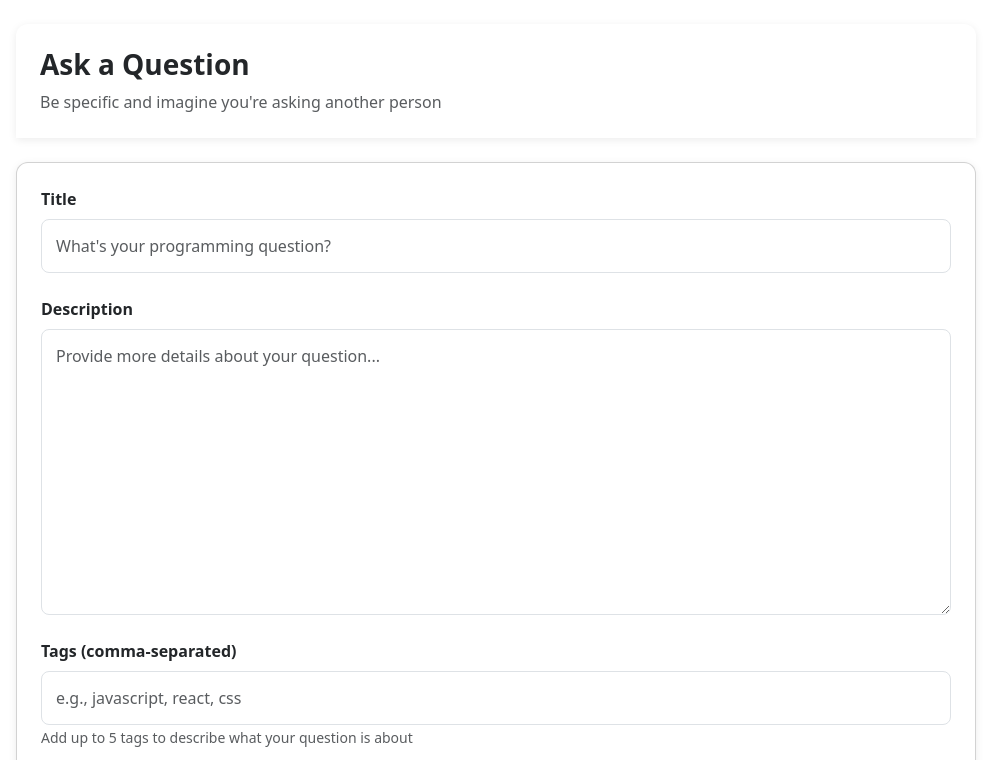
Test: Question Quality Improver › accepting replaces the field and removes only that suggestion
The width and height of the screenshot is (993, 760).
In the field labelled "Title": (496, 246) left=41, top=219, right=951, bottom=273, type "react not working"
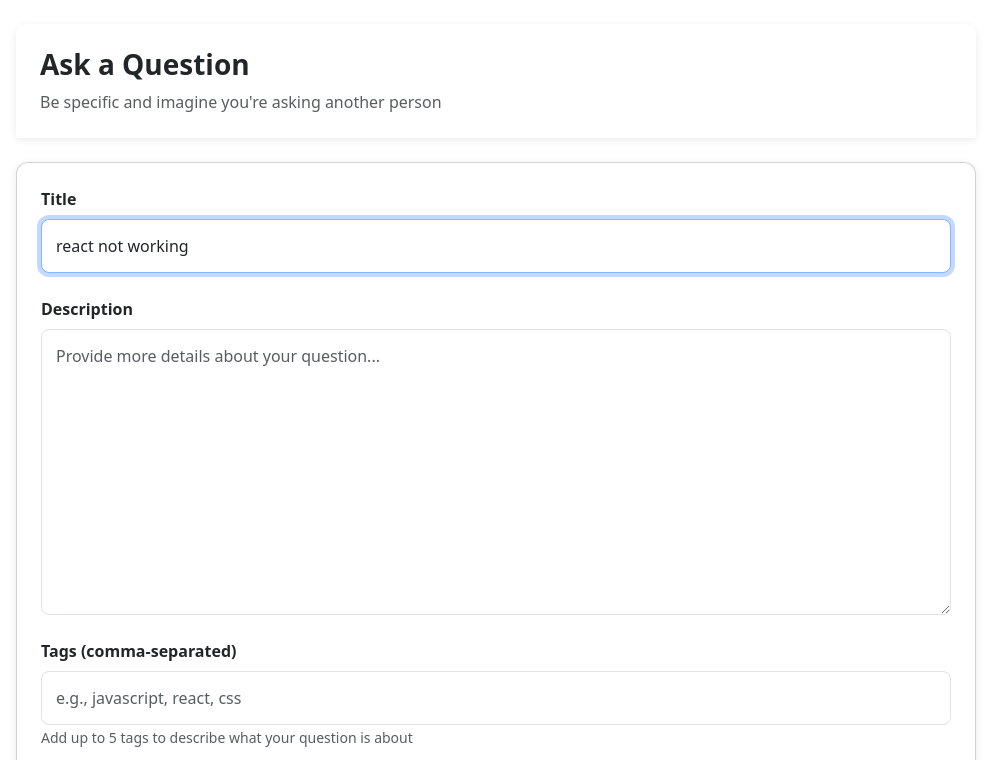
In the text box labelled "Description": (496, 472) left=41, top=329, right=951, bottom=614, type "useEffect runs twice"
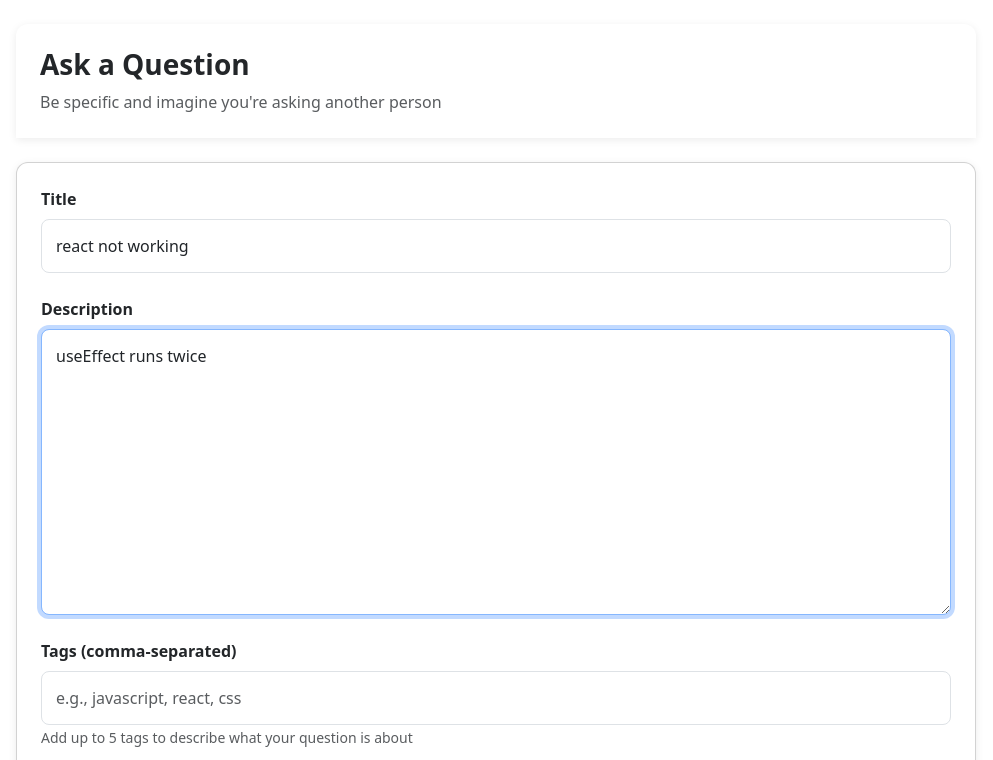
In the field labelled "Tags (comma-separated)": (496, 698) left=41, top=670, right=951, bottom=724, type "react"
(page scrolled)
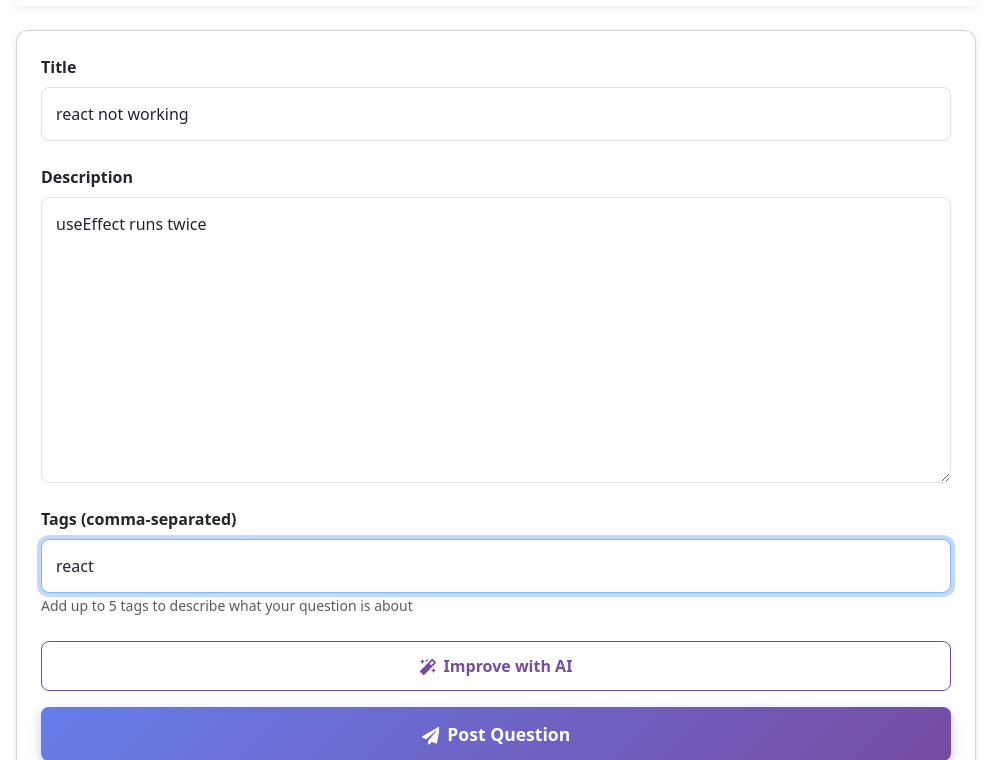
Click the button "Improve with AI": (496, 666) left=41, top=640, right=951, bottom=690
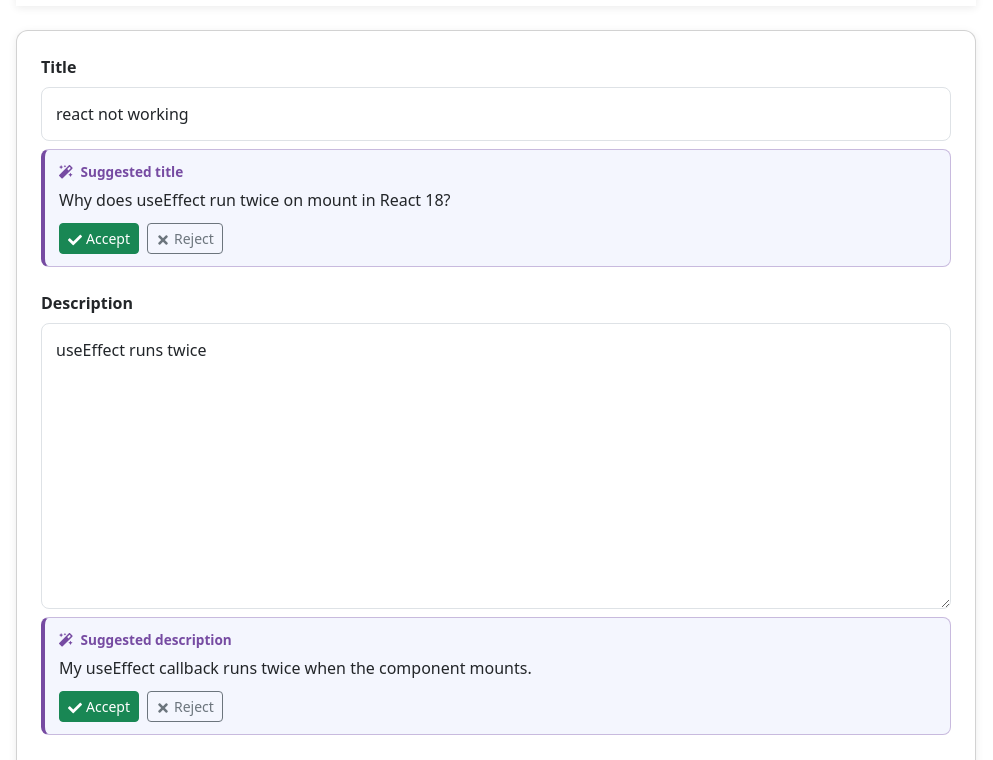
Expected: the element with test id "ai-suggestion-title" is shown, left=41, top=149, right=951, bottom=267
Click the button with aria-label "accept suggested title": (99, 238) left=59, top=223, right=139, bottom=254
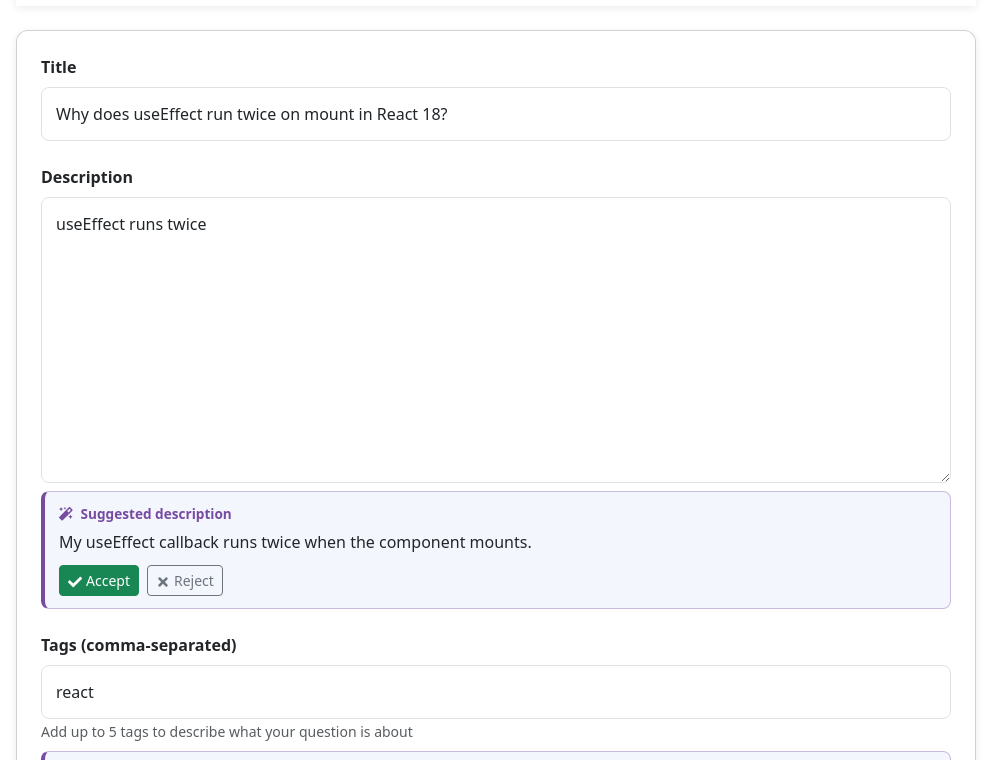
Expected: the element with test id "ai-suggestion-description" is shown, left=41, top=490, right=951, bottom=609
Expected: the field labelled "Title" holds "Why does useEffect run twice on mount in React 18?", left=41, top=87, right=951, bottom=141
Expected: the element with test id "ai-suggestion-title" is gone
